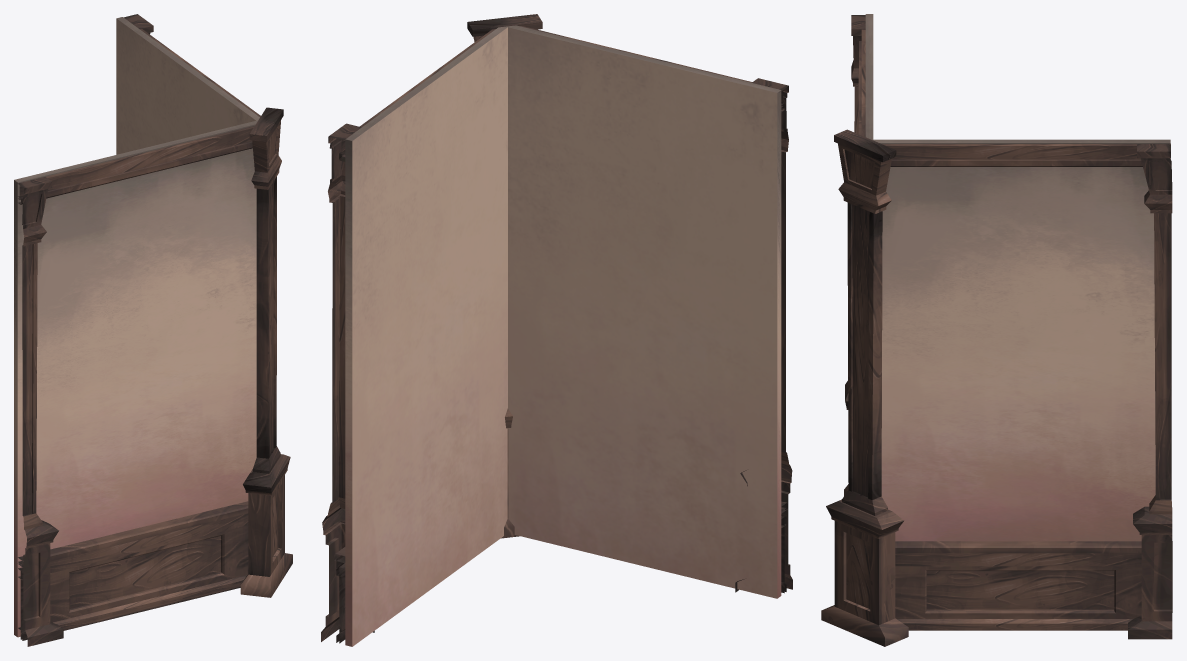
The model's file is ContextIII_Wall_OuterCorner.fbx.
3 views of the same model, side by side, from view 1: azimuth 30°, elevation 25°; view 2: azimuth 150°, elevation 25°; view 3: azimuth 270°, elevation 25° (orthographic). The views are drawn at different scales.
Parts seen in each view (by area): view 1: Outer_Corner_Wall; view 2: Outer_Corner_Wall; view 3: Outer_Corner_Wall.
Boxes of the visible parts, x1,y1,x2,y2 form: Outer_Corner_Wall: (14, 14, 292, 646); Outer_Corner_Wall: (321, 14, 792, 646); Outer_Corner_Wall: (821, 14, 1172, 646).
Size of the model in its own units: 0.6873 by 1.06 by 0.6909.
